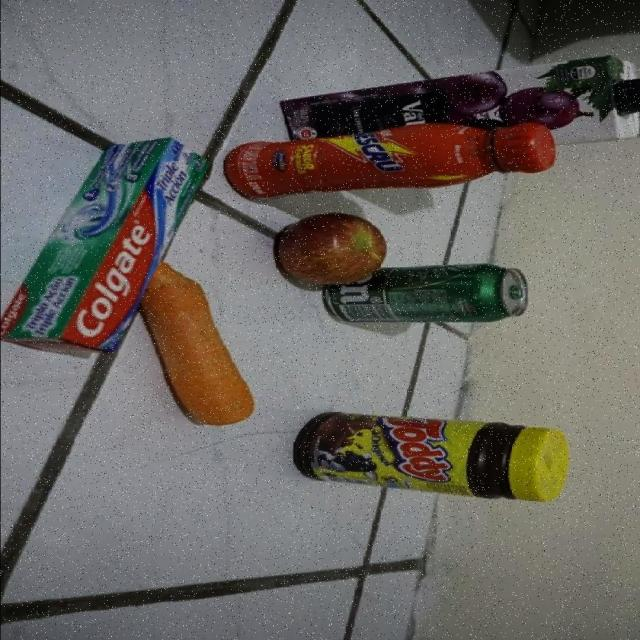Apple: (277, 213, 386, 286)
BeerCan: (317, 265, 529, 324)
Carrot: (142, 261, 254, 427)
ChocolateMilk: (225, 117, 555, 201)
ChocolatePowder: (290, 410, 569, 504)
Toothpaste: (0, 136, 215, 358)
